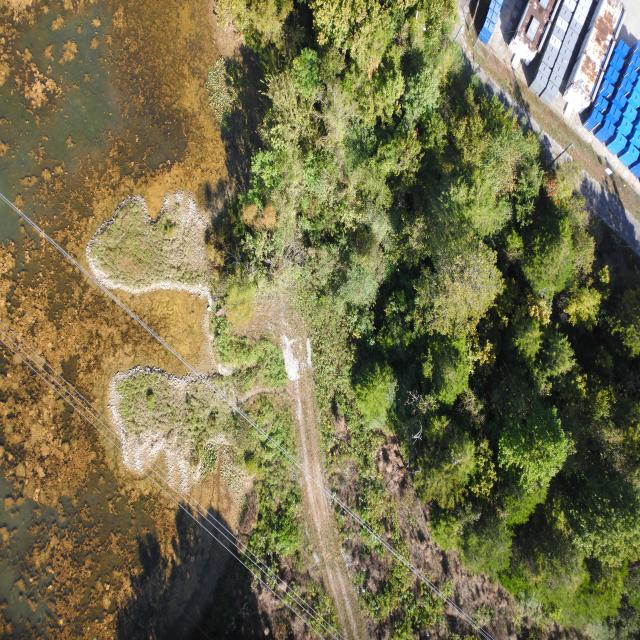Area of Interest: (255, 5, 632, 632)
